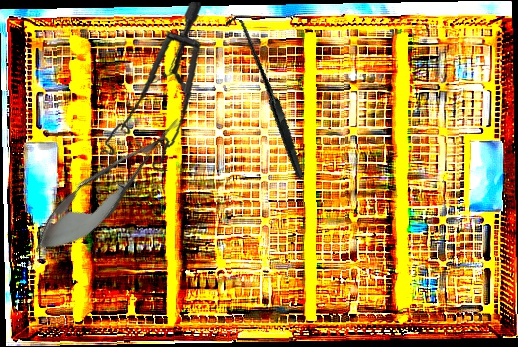Hook Surgical: (185, 15, 344, 180)
Micro Scissor: (20, 101, 197, 271)
Speculum: (86, 1, 220, 178)
